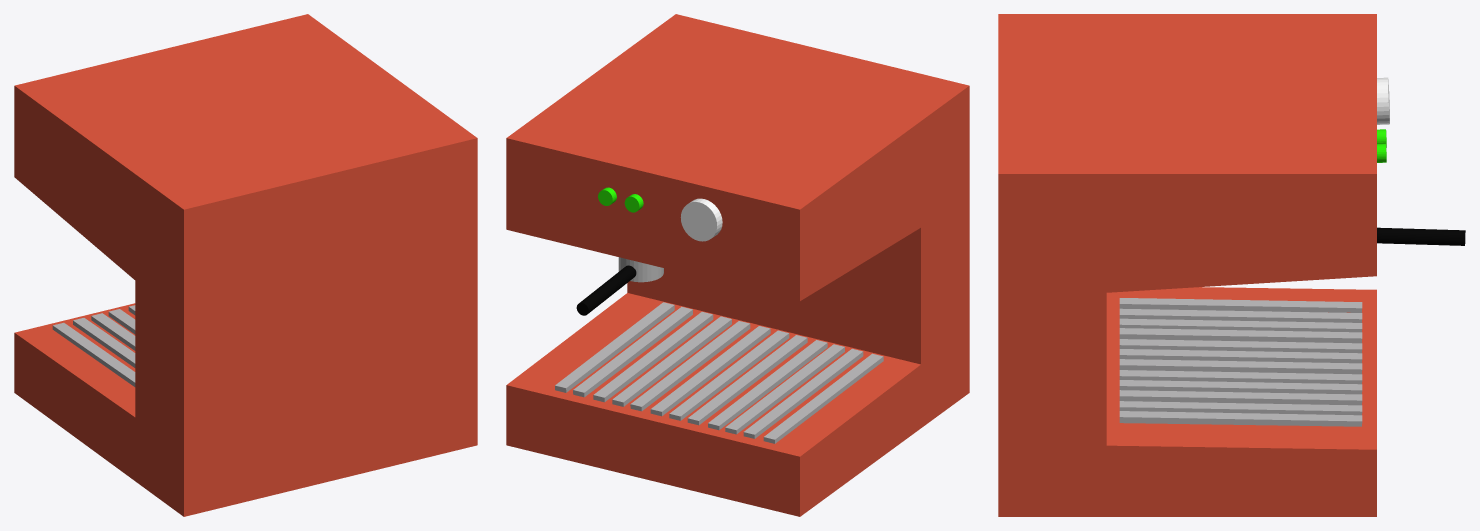
The model's file is espresso_machine.glb.
3 renders of one model, left to right at view 1: azimuth 30°, elevation 25°; view 2: azimuth 150°, elevation 25°; view 3: azimuth 270°, elevation 25°, orthographic. The views are drawn at different scales.
Visible parts, largest first — view 1: Cube, Cube.013; view 2: Cube, Cube.013, Cylinder.004, Cylinder.001, Cylinder; view 3: Cube, Cube.013, Cylinder.001, Cylinder.004.
Part boxes in pixels (x1,y1,x2,y2): Cube: (14, 14, 477, 516); Cube.013: (52, 305, 135, 386); Cube: (506, 14, 969, 516); Cube.013: (555, 302, 883, 443); Cylinder.004: (680, 198, 722, 241); Cylinder.001: (576, 265, 636, 315); Cylinder: (618, 257, 663, 282); Cube: (998, 14, 1376, 516); Cube.013: (1119, 298, 1362, 426); Cylinder.001: (1377, 227, 1465, 245); Cylinder.004: (1377, 77, 1389, 124).
Bounding box in the file's own units: 1.39 × 1.39 × 1.71.
